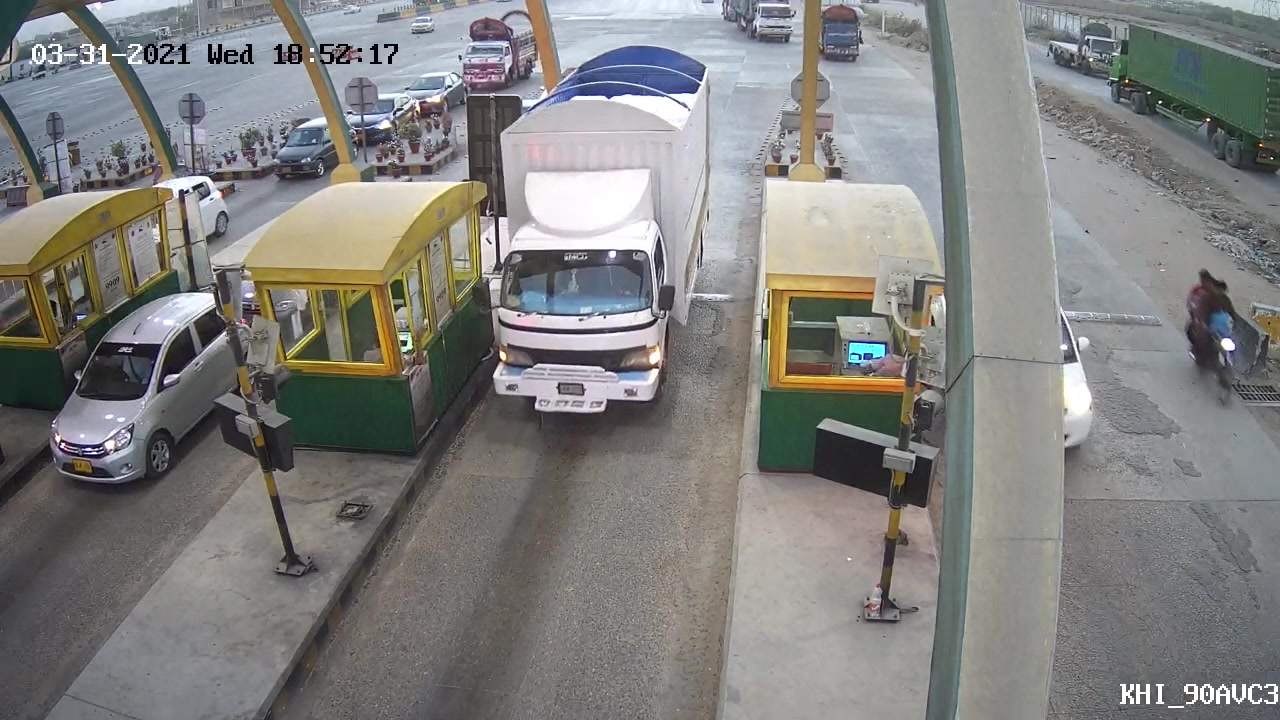F5: (476, 46, 728, 425)
